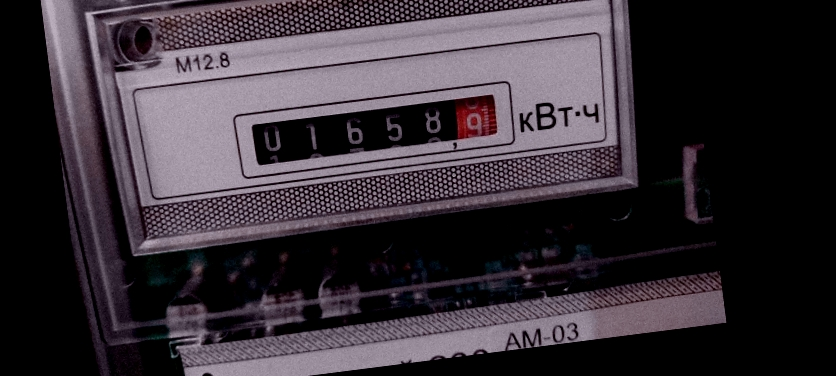0: (259, 119, 284, 154)
1: (303, 119, 320, 151)
5: (382, 109, 405, 143)
6: (343, 113, 366, 146)
8: (421, 102, 444, 136)
9: (462, 109, 483, 137)
screen: (224, 70, 522, 185)
